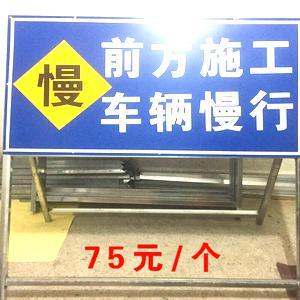sign: (4, 17, 298, 160)
